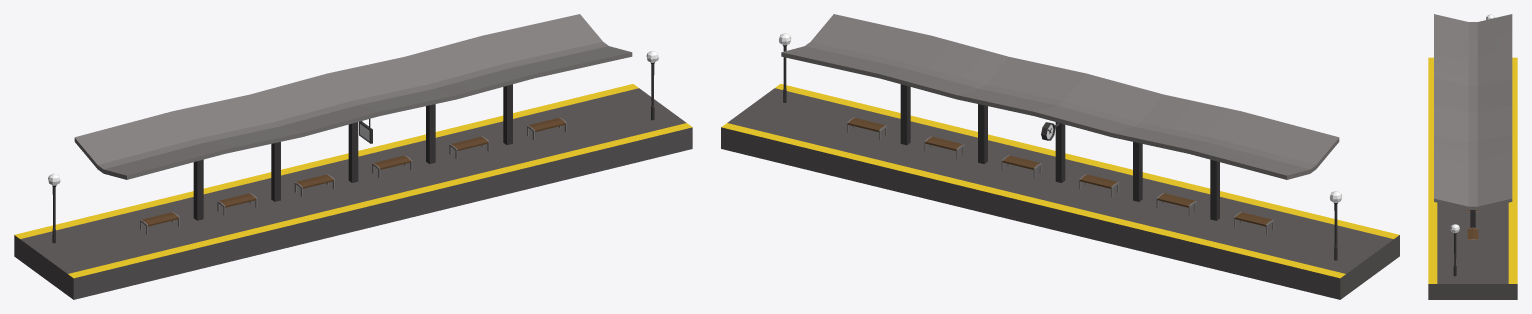
The model's file is buildings_train-station-platform.fbx.
3 views of the same model, side by side, from view 1: azimuth 30°, elevation 25°; view 2: azimuth 150°, elevation 25°; view 3: azimuth 270°, elevation 25° (orthographic). The views are drawn at different scales.
Parts seen in each view (by area): view 1: buildings_train_station_platform; view 2: buildings_train_station_platform; view 3: buildings_train_station_platform.
Part boxes in pixels (box(x1,y1,x2,y2)): buildings_train_station_platform: box(14, 14, 692, 299); buildings_train_station_platform: box(721, 14, 1399, 299); buildings_train_station_platform: box(1428, 14, 1517, 299).
Size of the model in its own units: 200 by 33.95 by 33.29.
